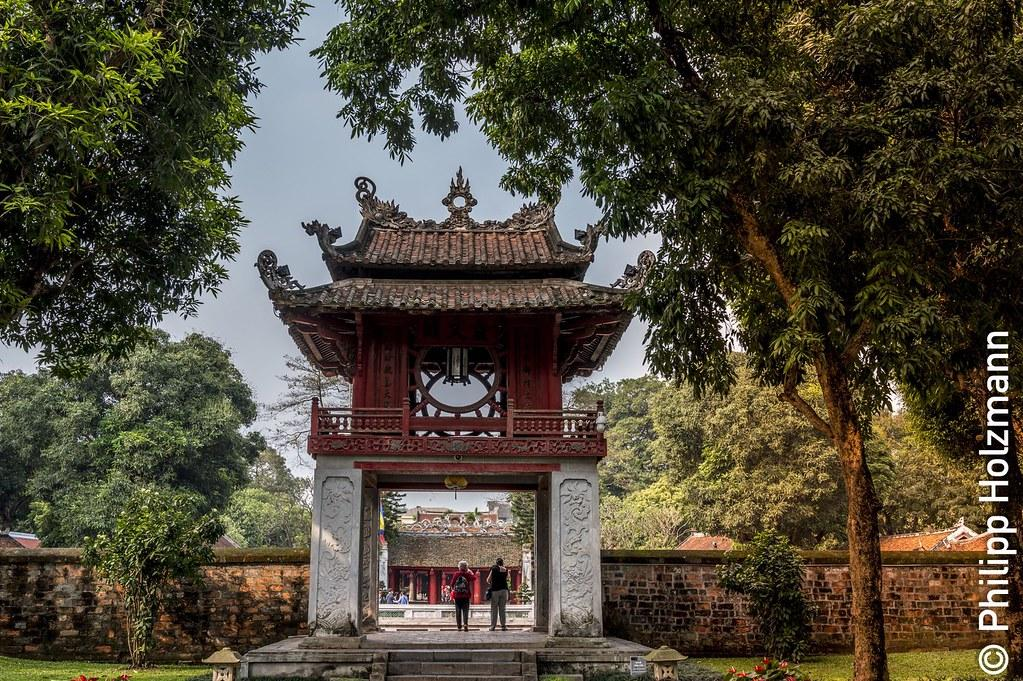temple: (244, 165, 658, 675)
